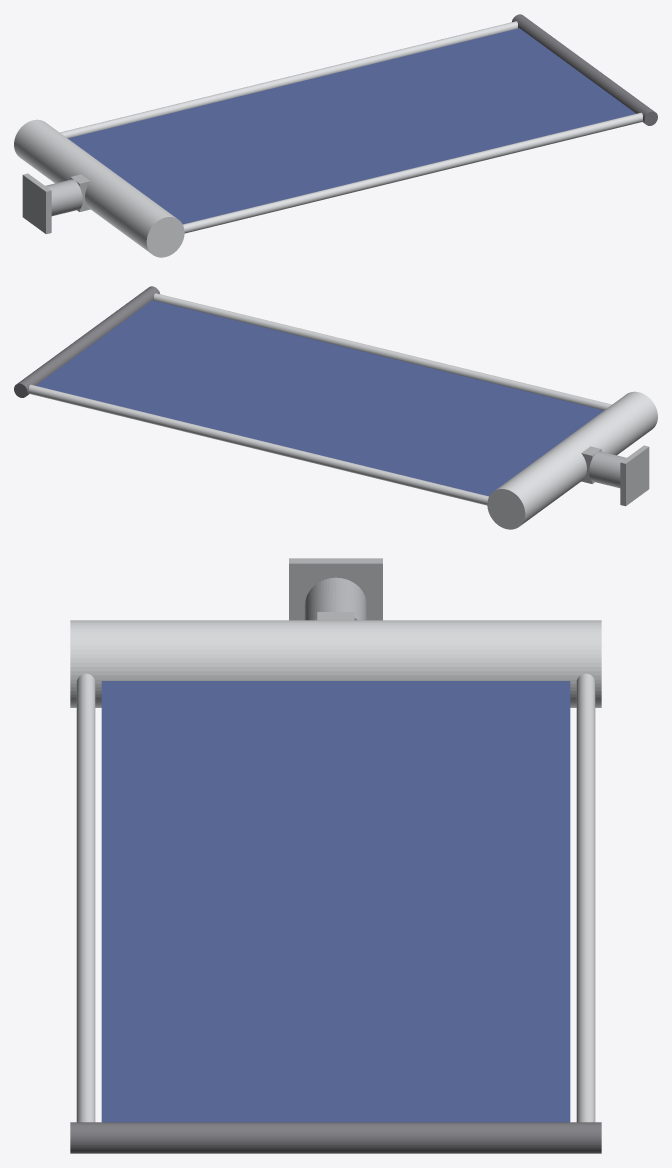
Rendered from power00_rosa_array_deployed.glb.
The picture shows the model from 3 angles, top to bottom: view 1: azimuth 30°, elevation 25°; view 2: azimuth 150°, elevation 25°; view 3: azimuth 270°, elevation 25°; orthographic projection. The views are drawn at different scales.
Visible parts, largest first — view 1: blanket, booms, roll_canister, sada_base, tip_bar; view 2: blanket, booms, roll_canister, sada_base, tip_bar; view 3: blanket, roll_canister, booms, tip_bar, sada_base.
Boxes of the visible parts, x1,y1,x2,y2 form: blanket: (68,28,635,224); booms: (60,21,642,233); roll_canister: (14,119,184,257); sada_base: (22,173,90,234); tip_bar: (512,14,657,125); blanket: (36,300,603,496); booms: (29,293,611,505); roll_canister: (487,391,657,529); sada_base: (581,445,649,506); tip_bar: (14,286,159,397); blanket: (101,681,570,1122); roll_canister: (70,620,601,707); booms: (76,673,595,1122); tip_bar: (70,1122,601,1153); sada_base: (289,558,382,620).
Bounding box in the file's own units: 4.12 × 0.3 × 1.7.
